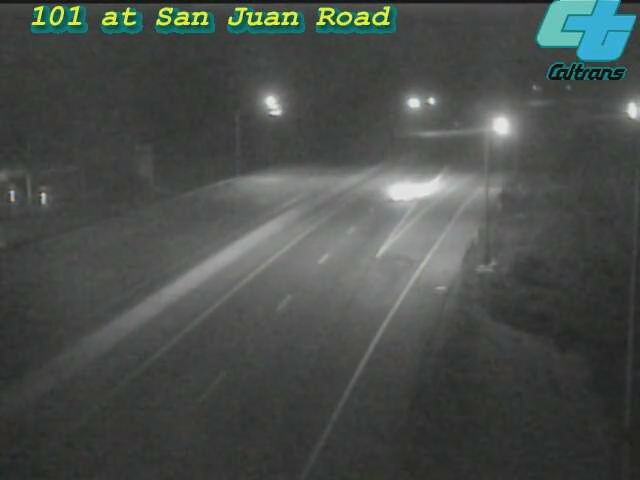vehicle: (362, 153, 442, 233), (478, 100, 528, 150), (607, 85, 640, 135)
